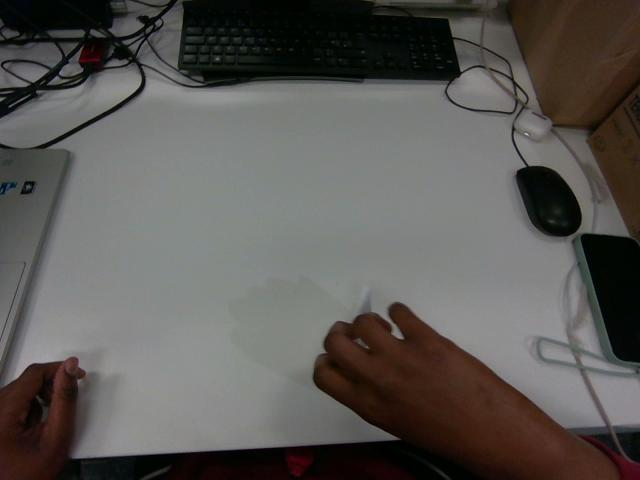gauze: (354, 288, 371, 316)
